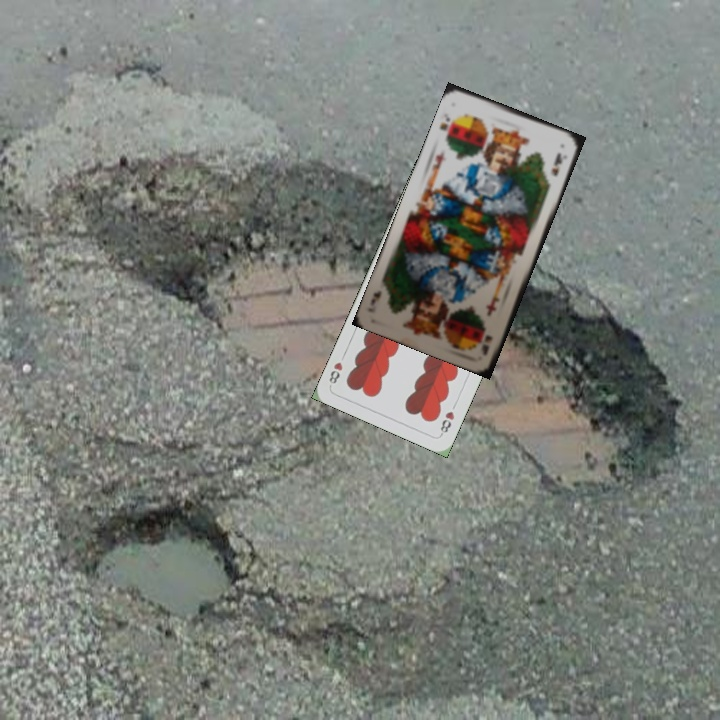H8: (436, 407, 457, 438)
SK: (435, 109, 453, 142), (477, 331, 495, 358)
